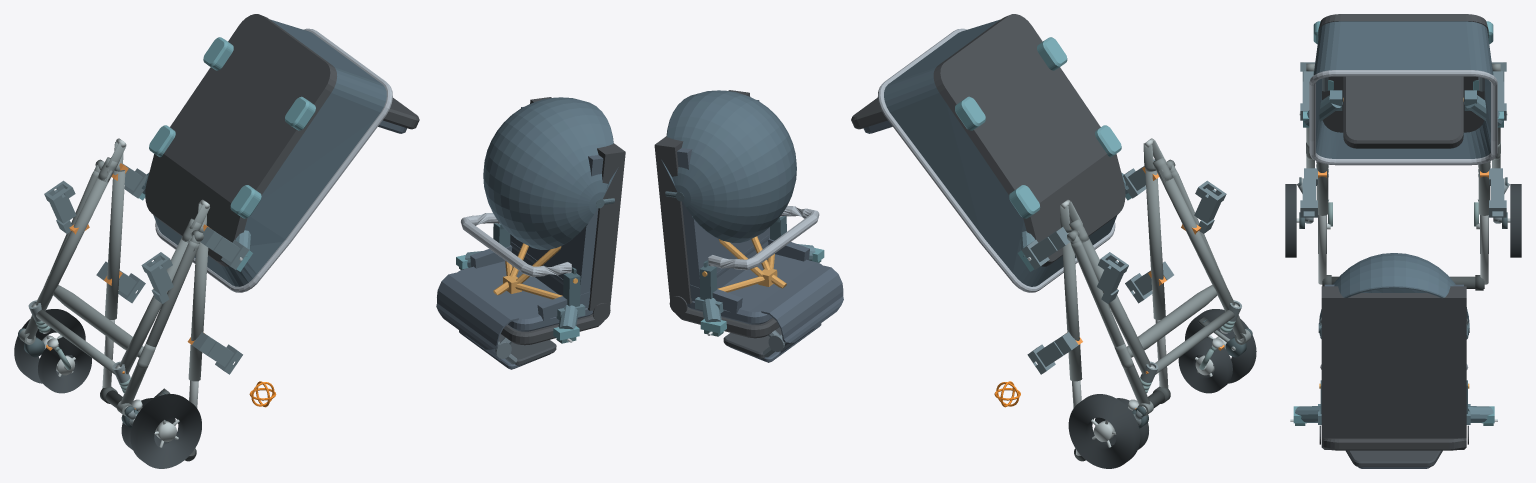
The model's file is D20_w550_state3_wheel_S.glb.
The picture shows the model from 3 angles, left to right: view 1: azimuth 30°, elevation 25°; view 2: azimuth 150°, elevation 25°; view 3: azimuth 270°, elevation 25°; orthographic projection. The views are drawn at different scales.
Visible parts, largest first — view 1: D20_Lower, D20_Upper, RL_tire.004, main_upper_1.005, main_lower_1.005, FR_tire.004, V46_rear_leg_-1.005, main_upper_-1.005, V46_rearbar.005, main_lower_-1.005, RR_tire.004, D20_Upper_Mount_H (+7 smaller); view 2: D20_Lower, D20_Upper, RR_tire.004, main_upper_-1.005, main_lower_-1.005, FL_tire.004, V46_rear_leg_1.005, main_upper_1.005, V46_rearbar.005, main_lower_1.005, RL_tire.004, D20_Upper_Mount_H (+7 smaller); view 3: D20_Upper, D20_Lower, D20_Lower_Mount_M, D20_Upper_Mount_H, RL_tire.004, RR_tire.004, Universal_Cabin_Receiver_H_1, Universal_Cabin_Receiver_H_-1, handle_slider_1.004, handle_slider_-1.004, main_upper_1.005, main_upper_-1.005 (+3 smaller).
Boxes of the visible parts, bbox=[...] form: D20_Lower: bbox=[145, 14, 419, 292]; D20_Upper: bbox=[436, 97, 625, 369]; RL_tire.004: bbox=[130, 394, 201, 468]; main_upper_1.005: bbox=[105, 170, 125, 319]; main_lower_1.005: bbox=[35, 170, 112, 310]; FR_tire.004: bbox=[38, 337, 91, 393]; V46_rear_leg_-1.005: bbox=[120, 240, 199, 404]; main_upper_-1.005: bbox=[188, 232, 208, 381]; V46_rearbar.005: bbox=[53, 285, 143, 357]; main_lower_-1.005: bbox=[119, 237, 191, 374]; RR_tire.004: bbox=[14, 309, 85, 383]; D20_Upper_Mount_H: bbox=[456, 251, 585, 343]; D20_Lower: bbox=[851, 14, 1125, 292]; D20_Upper: bbox=[654, 90, 843, 362]; RR_tire.004: bbox=[1068, 394, 1140, 468]; main_upper_-1.005: bbox=[1145, 170, 1165, 319]; main_lower_-1.005: bbox=[1158, 170, 1235, 311]; FL_tire.004: bbox=[1178, 337, 1232, 393]; V46_rear_leg_1.005: bbox=[1071, 240, 1150, 404]; main_upper_1.005: bbox=[1062, 232, 1082, 381]; V46_rearbar.005: bbox=[1127, 285, 1217, 357]; main_lower_1.005: bbox=[1079, 237, 1151, 374]; RL_tire.004: bbox=[1185, 309, 1256, 383]; D20_Upper_Mount_H: bbox=[695, 244, 824, 336]; D20_Upper: bbox=[1318, 253, 1469, 468]; D20_Lower: bbox=[1309, 14, 1497, 165]; D20_Lower_Mount_M: bbox=[1299, 90, 1507, 127]; D20_Upper_Mount_H: bbox=[1290, 404, 1497, 425]; RL_tire.004: bbox=[1285, 184, 1296, 257]; RR_tire.004: bbox=[1510, 184, 1521, 257]; Universal_Cabin_Receiver_H_1: bbox=[1489, 168, 1506, 217]; Universal_Cabin_Receiver_H_-1: bbox=[1300, 168, 1317, 217]; handle_slider_1.004: bbox=[1480, 215, 1488, 284]; handle_slider_-1.004: bbox=[1318, 215, 1326, 284]; main_upper_1.005: bbox=[1478, 161, 1490, 215]; main_upper_-1.005: bbox=[1316, 161, 1328, 215].
Bounding box in the file's own units: 1.58 × 1.04 × 0.641.
